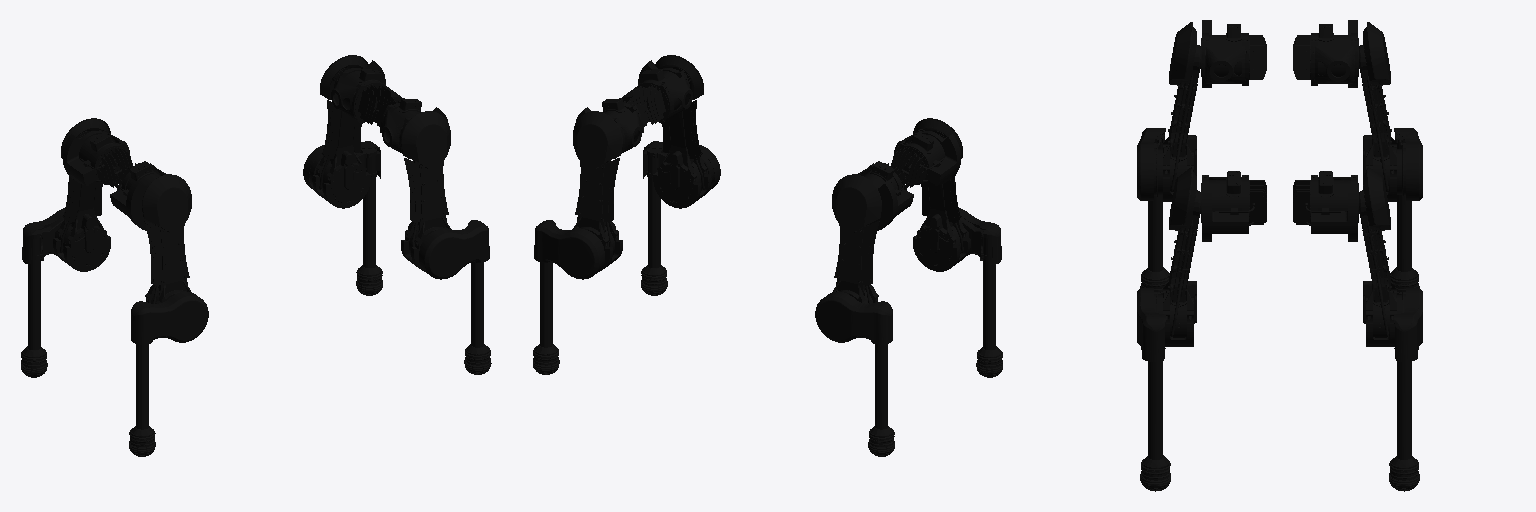
The robot description file, URDF, robot "anymal":
<?xml version="1.0" encoding="utf-8" ?>
<!-- =================================================================================== -->
<!--   Copyright 2019 ANYbotics, https://www.anybotics.com                               -->
<!-- =================================================================================== -->
<!-- This file contains the description of the ANYmal B robot. -->
<!-- <?xml version="1.0" ?> -->
<robot name="anymal">

    <!--
      Material colors
    -->

    <!-- Basic colors -->
    <material name="black">
        <color rgba="0.0 0.0 0.0 1.0"/>
    </material>
    <material name="blue">
        <color rgba="0.0 0.0 0.8 1.0"/>
    </material>
    <material name="green">
        <color rgba="0.0 0.8 0.0 1.0"/>
    </material>
    <material name="grey">
        <color rgba="0.2 0.2 0.2 1.0"/>
    </material>
    <material name="light_grey">
        <color rgba="0.4 0.4 0.4 1.0"/>
    </material>
    <material name="red">
        <color rgba="0.8 0.0 0.0 1.0"/>
    </material>
    <material name="white">
        <color rgba="1.0 1.0 1.0 1.0"/>
    </material>

    <!-- Material for the visual primitives -->
    <material name="anymal_material">
        <!-- <color rgba="0.7 0.7 0.7 1.0"/> -->
        <color rgba="0.1 0.1 0.1 1.0"/>
    </material>

    <!--
      Base
    -->

    <!-- KDL cannot have inertia on the base link so you might add a dummy inertia link -->
    <!-- Base link -->
    <link name="base">
        <inertial>
            <origin rpy="0 0 0" xyz="-0.001960558279 -0.001413217745 0.050207125344"/>
            <mass value="16.793507758"/>
            <inertia ixx="0.217391101503" ixy="-0.00132873239126" ixz="-0.00228200226173" iyy="0.639432546734" iyz="-0.00138078263145" izz="0.62414077654"/>
        </inertial>
        <visual>
            <origin rpy="0 0 0" xyz="0 0 0"/>
            <geometry>
                <mesh filename="meshes/anymal_base.obj" scale="0.001 0.001 0.001"/>
            </geometry>
            <material name="anymal_material"/>
        </visual>
        <!-- Main Body -->
        <collision>
            <origin rpy="0 0 0" xyz="0 0 0.08"/>
            <geometry>
                <box size="0.531 0.27 0.24"/>
            </geometry>
        </collision>
    </link>

    <!--
      Left-Fore leg
    -->

    <!-- high link -->
    <link name="LF_HIP">
        <visual>
            <origin rpy="0 0 0.0" xyz="0 0 0"/>
            <geometry>
                <mesh filename="meshes/anymal_hip_l.obj" scale="0.001 0.001 0.001"/>
            </geometry>
            <material name="anymal_material"/>
        </visual>
        <inertial>
            <origin rpy="0 0 0" xyz="0.064516258147 -0.003787101702 -0.000152184388"/>
            <mass value="1.42462064"/>
            <inertia ixx="0.00243023349564" ixy="-1.53023971e-05" ixz="-2.1819095354e-05" iyy="0.00230257239103" iyz="2.6473021273e-05" izz="0.0019806759227"/>
        </inertial>
    </link>
    <!-- Hip joint -->
    <joint name="LF_HAA" type="revolute">
        <parent link="base"/>
        <child link="LF_HIP"/>
        <origin xyz="0.277 0.116 0.0"/>
        <axis xyz="1 0 0"/>
        <limit effort="80" lower="-6.28" upper="6.28" velocity="15"/>
        <dynamics damping="0.0" friction="0.0"/>
    </joint>

    <!-- Thigh link -->
    <link name="LF_THIGH">
        <visual>
            <origin rpy="0 0 0.0" xyz="0 0 0"/>
            <geometry>
                <mesh filename="meshes/anymal_thigh_l.obj" scale="0.001 0.001 0.001"/>
            </geometry>
            <material name="anymal_material"/>
        </visual>
        <collision>
            <!-- KFE actuator -->
            <origin rpy="1.57079632679 0 0" xyz="0.0 0.07205 -0.25"/>
            <geometry>
                <cylinder length="0.11" radius="0.06"/>
            </geometry>
        </collision>
        <inertial>
            <origin rpy="0 0 0" xyz="-0.003897968082 0.054226618537 -0.214583373795"/>
            <mass value="1.634976467"/>
            <inertia ixx="0.0120367944369" ixy="6.762065206e-05" ixz="0.000287806340448" iyy="0.0120643637939" iyz="-0.00140610131218" izz="0.00249422574881"/>
        </inertial>
    </link>
    <!-- Thigh joint -->
    <joint name="LF_HFE" type="revolute">
        <parent link="LF_HIP"/>
        <child link="LF_THIGH"/>
        <origin xyz="0.0635                    0.041                    0.0"/>
        <axis xyz="0 1 0"/>
        <limit effort="80" lower="-6.28" upper="6.28" velocity="15"/>
        <dynamics damping="0.0" friction="0.0"/>
    </joint>

    <!-- Shank link -->
    <link name="LF_SHANK">
        <visual>
            <origin rpy="0 0 0.0" xyz="0 0 0"/>
            <geometry>
                <mesh filename="meshes/anymal_shank_l.obj" scale="0.001 0.001 0.001"/>
            </geometry>
            <material name="anymal_material"/>
        </visual>
        <inertial>
            <origin rpy="0 0 0" xyz="0.030816858139 -0.004617229294 0.000893125713"/>
            <mass value="0.207204302"/>
            <inertia ixx="0.0002104880248" ixy="-5.6750980345e-05" ixz="1.0127699391e-05" iyy="0.000676270210023" iyz="-8.22869024e-07" izz="0.000545032674924"/>
        </inertial>
    </link>
    <!-- Shank joint -->
    <joint name="LF_KFE" type="revolute">
        <parent link="LF_THIGH"/>
        <child link="LF_SHANK"/>
        <origin xyz="0.0 0.109 -0.25"/>
        <axis xyz="0 1 0"/>
        <limit effort="80" lower="-6.28" upper="6.28" velocity="15"/>
        <dynamics damping="0.0" friction="0.0"/>
    </joint>
    <!-- Shank to Adapter joint -->
    <joint name="LF_SHANK_TO_ADAPTER" type="fixed">
        <parent link="LF_SHANK"/>
        <child link="LF_ADAPTER"/>
        <origin rpy="0.0 0.0 0.0" xyz="0.1 -0.02 0.0"/>
    </joint>

    <!-- Adapter link -->
    <link name="LF_ADAPTER">
        <visual>
            <origin rpy="0 0 0.0" xyz="0 0 0.032"/>
            <geometry>
                <mesh filename="meshes/anymal_foot.obj" scale="0.001 0.001 0.001"/>
            </geometry>
            <material name="anymal_material"/>
        </visual>
        <collision>
            <origin rpy="0 0 0" xyz="0 0 -0.160625"/>
            <geometry>
                <cylinder length="0.22125" radius="0.015"/>
            </geometry>
        </collision>
        <inertial>
            <origin rpy="0 0 0" xyz="-8.66e-10 -1.472e-09 -0.244345749188"/>
            <mass value="0.140170767"/>
            <inertia ixx="0.00159938741862" ixy="-9.32e-13" ixz="1.039e-11" iyy="0.00159938741932" iyz="1.7563e-11" izz="5.4423177329e-05"/>
        </inertial>
    </link>
    <!-- Adapter to Foot joint -->
    <joint name="LF_ADAPTER_TO_FOOT" type="fixed">
        <parent link="LF_ADAPTER"/>
        <child link="LF_FOOT"/>
        <origin rpy="0.0 0.0 0.0" xyz="0.0 0.0 -0.32125"/>
    </joint>

    <!-- Foot link -->
    <link name="LF_FOOT">
        <inertial>
            <mass value="0.001"/>
            <inertia ixx="4.90e-07" ixy="0.0" ixz="0.0" iyy="4.90e-07" iyz="0.0" izz="4.90e-07"/>  <!-- for a sphere: 2/5 m * r**2 -->
        </inertial>
        <collision>
            <origin xyz="0 0 0.02325"/>
            <geometry>
                <sphere radius="0.035"/>
            </geometry>
        </collision>
    </link>

    <!--
      Right-Fore leg
    -->

    <!-- Hip link -->
    <link name="RF_HIP">
        <visual>
            <origin rpy="0 0 0.0" xyz="0 0 0"/>
            <geometry>
                <mesh filename="meshes/anymal_hip_r.obj" scale="0.001 0.001 0.001"/>
            </geometry>
            <material name="anymal_material"/>
        </visual>
        <inertial>
            <origin rpy="0 0 0" xyz="0.064516258147 0.003787101702 -0.000152184388"/>
            <mass value="1.42462064"/>
            <inertia ixx="0.00243023349564" ixy="1.53023971e-05" ixz="-2.1819095354e-05" iyy="0.00230257239103" iyz="-2.6473021273e-05" izz="0.0019806759227"/>
        </inertial>
    </link>
    <!-- Hip joint -->
    <joint name="RF_HAA" type="revolute">
        <parent link="base"/>
        <child link="RF_HIP"/>
        <origin xyz="0.277 -0.116 0.0"/>
        <axis xyz="1 0 0"/>
        <limit effort="80" lower="-6.28" upper="6.28" velocity="15"/>
        <dynamics damping="0.0" friction="0.0"/>
    </joint>

    <!-- Thigh link -->
    <link name="RF_THIGH">
        <visual>
            <origin rpy="0 0 0.0" xyz="0 0 0"/>
            <geometry>
                <mesh filename="meshes/anymal_thigh_r.obj" scale="0.001 0.001 0.001"/>
            </geometry>
            <material name="anymal_material"/>
        </visual>
        <collision>
            <!-- KFE actuator -->
            <origin rpy="1.57079632679 0 0" xyz="0.0 -0.07205 -0.25"/>
            <geometry>
                <cylinder length="0.11" radius="0.06"/>
            </geometry>
        </collision>
        <inertial>
            <origin rpy="0 0 0" xyz="-0.003897968082 -0.054226618537 -0.214583373795"/>
            <mass value="1.634976467"/>
            <inertia ixx="0.0120367944369" ixy="-6.762065206e-05" ixz="0.000287806340448" iyy="0.0120643637939" iyz="0.00140610131218" izz="0.00249422574881"/>
        </inertial>
    </link>
    <!-- Thigh joint -->
    <joint name="RF_HFE" type="revolute">
        <parent link="RF_HIP"/>
        <child link="RF_THIGH"/>
        <origin xyz="0.0635                    -0.041                    0.0"/>
        <axis xyz="0 1 0"/>
        <limit effort="80" lower="-6.28" upper="6.28" velocity="15"/>
        <dynamics damping="0.0" friction="0.0"/>
    </joint>

    <!-- Shank link -->
    <link name="RF_SHANK">
        <visual>
            <origin rpy="0 0 0.0" xyz="0 0 0"/>
            <geometry>
                <mesh filename="meshes/anymal_shank_r.obj" scale="0.001 0.001 0.001"/>
            </geometry>
            <material name="anymal_material"/>
        </visual>
        <inertial>
            <origin rpy="0 0 0" xyz="0.030816858139 0.004617229294 0.000893125713"/>
            <mass value="0.207204302"/>
            <inertia ixx="0.0002104880248" ixy="5.6750980345e-05" ixz="1.0127699391e-05" iyy="0.000676270210023" iyz="8.22869024e-07" izz="0.000545032674924"/>
        </inertial>
    </link>
    <!-- Shank joint -->
    <joint name="RF_KFE" type="revolute">
        <parent link="RF_THIGH"/>
        <child link="RF_SHANK"/>
        <origin xyz="0.0 -0.109 -0.25"/>
        <axis xyz="0 1 0"/>
        <limit effort="80" lower="-6.28" upper="6.28" velocity="15"/>
        <dynamics damping="0.0" friction="0.0"/>
    </joint>
    <!-- Shank to Adapter joint -->
    <joint name="RF_SHANK_TO_ADAPTER" type="fixed">
        <parent link="RF_SHANK"/>
        <child link="RF_ADAPTER"/>
        <origin rpy="-0.0 0.0 -0.0" xyz="0.1 0.02 0.0"/>
    </joint>

    <!-- Adapter link -->
    <link name="RF_ADAPTER">
        <visual>
            <origin rpy="0 0 0.0" xyz="0 0 0.032"/>
            <geometry>
                <mesh filename="meshes/anymal_foot.obj" scale="0.001 0.001 0.001"/>
            </geometry>
            <material name="anymal_material"/>
        </visual>
        <collision>
            <origin rpy="0 0 0" xyz="0 0 -0.160625"/>
            <geometry>
                <cylinder length="0.22125" radius="0.015"/>
            </geometry>
        </collision>
        <inertial>
            <origin rpy="0 0 0" xyz="-8.66e-10 -1.472e-09 -0.244345749188"/>
            <mass value="0.140170767"/>
            <inertia ixx="0.00159938741862" ixy="-9.32e-13" ixz="1.039e-11" iyy="0.00159938741932" iyz="1.7563e-11" izz="5.4423177329e-05"/>
        </inertial>
    </link>
    <!-- Adapter to Foot joint -->
    <joint name="RF_ADAPTER_TO_FOOT" type="fixed">
        <parent link="RF_ADAPTER"/>
        <child link="RF_FOOT"/>
        <origin rpy="-0.0 0.0 -0.0" xyz="0.0 -0.0 -0.32125"/>
    </joint>

    <!-- Foot link -->
    <link name="RF_FOOT">
        <inertial>
            <mass value="0.001"/>
            <inertia ixx="4.90e-07" ixy="0.0" ixz="0.0" iyy="4.90e-07" iyz="0.0" izz="4.90e-07"/>  <!-- for a sphere: 2/5 m * r**2 -->
        </inertial>
        <collision>
            <origin xyz="0 0 0.02325"/>
            <geometry>
                <sphere radius="0.035"/>
            </geometry>
        </collision>
    </link>


    <!--
      Left-Hind leg
    -->

    <!-- Hip link -->
    <link name="LH_HIP">
        <visual>
            <origin rpy="0 0 -3.14159265359" xyz="0 0 0"/>
            <geometry>
                <mesh filename="meshes/anymal_hip_r.obj" scale="0.001 0.001 0.001"/>
            </geometry>
            <material name="anymal_material"/>
        </visual>
        <inertial>
            <origin rpy="0 0 0" xyz="-0.064516258147 -0.003787101702 -0.000152184388"/>
            <mass value="1.42462064"/>
            <inertia ixx="0.00243023349564" ixy="1.53023971e-05" ixz="2.1819095354e-05" iyy="0.00230257239103" iyz="2.6473021273e-05" izz="0.0019806759227"/>
        </inertial>
    </link>
    <!-- Hip joint -->
    <joint name="LH_HAA" type="revolute">
        <parent link="base"/>
        <child link="LH_HIP"/>
        <origin xyz="-0.277 0.116 0.0"/>
        <axis xyz="1 0 0"/>
        <limit effort="80" lower="-6.28" upper="6.28" velocity="15"/>
        <dynamics damping="0.0" friction="0.0"/>
    </joint>

    <!-- Thigh link -->
    <link name="LH_THIGH">
        <visual>
            <origin rpy="0 0 -3.14159265359" xyz="0 0 0"/>
            <geometry>
                <mesh filename="meshes/anymal_thigh_r.obj" scale="0.001 0.001 0.001"/>
            </geometry>
            <material name="anymal_material"/>
        </visual>
        <collision>
            <!-- KFE actuator -->
            <origin rpy="1.57079632679 0 0" xyz="0.0 0.07205 -0.25"/>
            <geometry>
                <cylinder length="0.11" radius="0.06"/>
            </geometry>
        </collision>
        <inertial>
            <origin rpy="0 0 0" xyz="0.003897968082 0.054226618537 -0.214583373795"/>
            <mass value="1.634976467"/>
            <inertia ixx="0.0120367944369" ixy="-6.762065206e-05" ixz="-0.000287806340448" iyy="0.0120643637939" iyz="-0.00140610131218" izz="0.00249422574881"/>
        </inertial>
    </link>
    <!-- Thigh joint -->
    <joint name="LH_HFE" type="revolute">
        <parent link="LH_HIP"/>
        <child link="LH_THIGH"/>
        <origin xyz="-0.0635                    0.041                    0.0"/>
        <axis xyz="0 1 0"/>
        <limit effort="80" lower="-6.28" upper="6.28" velocity="15"/>
        <dynamics damping="0.0" friction="0.0"/>
    </joint>

    <!-- Shank link -->
    <link name="LH_SHANK">
        <visual>
            <origin rpy="0 0 -3.14159265359" xyz="0 0 0"/>
            <geometry>
                <mesh filename="meshes/anymal_shank_r.obj" scale="0.001 0.001 0.001"/>
            </geometry>
            <material name="anymal_material"/>
        </visual>
        <inertial>
            <origin rpy="0 0 0" xyz="-0.030816858139 -0.004617229294 0.000893125713"/>
            <mass value="0.207204302"/>
            <inertia ixx="0.0002104880248" ixy="5.6750980345e-05" ixz="-1.0127699391e-05" iyy="0.000676270210023" iyz="-8.22869024e-07" izz="0.000545032674924"/>
        </inertial>
    </link>
    <!-- Shank joint -->
    <joint name="LH_KFE" type="revolute">
        <parent link="LH_THIGH"/>
        <child link="LH_SHANK"/>
        <origin xyz="-0.0 0.109 -0.25"/>
        <axis xyz="0 1 0"/>
        <limit effort="80" lower="-6.28" upper="6.28" velocity="15"/>
        <dynamics damping="0.0" friction="0.0"/>
    </joint>
    <!-- Shank to Adapter joint -->
    <joint name="LH_SHANK_TO_ADAPTER" type="fixed">
        <parent link="LH_SHANK"/>
        <child link="LH_ADAPTER"/>
        <origin rpy="0.0 -0.0 -0.0" xyz="-0.1 -0.02 0.0"/>
    </joint>

    <!-- Adapter link -->
    <link name="LH_ADAPTER">
        <visual>
            <origin rpy="0 0 -3.14159265359" xyz="0 0 0.032"/>
            <geometry>
                <mesh filename="meshes/anymal_foot.obj" scale="0.001 0.001 0.001"/>
            </geometry>
            <material name="anymal_material"/>
        </visual>
        <collision>
            <origin rpy="0 0 0" xyz="0 0 -0.160625"/>
            <geometry>
                <cylinder length="0.22125" radius="0.015"/>
            </geometry>
        </collision>
        <inertial>
            <origin rpy="0 0 0" xyz="-8.66e-10 -1.472e-09 -0.244345749188"/>
            <mass value="0.140170767"/>
            <inertia ixx="0.00159938741862" ixy="-9.32e-13" ixz="1.039e-11" iyy="0.00159938741932" iyz="1.7563e-11" izz="5.4423177329e-05"/>
        </inertial>
    </link>
    <!-- Adapter to Foot joint -->
    <joint name="LH_ADAPTER_TO_FOOT" type="fixed">
        <parent link="LH_ADAPTER"/>
        <child link="LH_FOOT"/>
        <origin rpy="0.0 -0.0 -0.0" xyz="-0.0 0.0 -0.32125"/>
    </joint>

    <!-- Foot link -->
    <link name="LH_FOOT">
        <inertial>
            <mass value="0.001"/>
            <inertia ixx="4.90e-07" ixy="0.0" ixz="0.0" iyy="4.90e-07" iyz="0.0" izz="4.90e-07"/>  <!-- for a sphere: 2/5 m * r**2 -->
        </inertial>
        <collision>
            <origin xyz="0 0 0.02325"/>
            <geometry>
                <sphere radius="0.035"/>
            </geometry>
        </collision>
    </link>

    <!--
      Right-Hind leg
    -->

    <!-- Hip link -->
    <link name="RH_HIP">
        <visual>
            <origin rpy="0 0 -3.14159265359" xyz="0 0 0"/>
            <geometry>
                <mesh filename="meshes/anymal_hip_l.obj" scale="0.001 0.001 0.001"/>
            </geometry>
            <material name="anymal_material"/>
        </visual>
        <inertial>
            <origin rpy="0 0 0" xyz="-0.064516258147 0.003787101702 -0.000152184388"/>
            <mass value="1.42462064"/>
            <inertia ixx="0.00243023349564" ixy="-1.53023971e-05" ixz="2.1819095354e-05" iyy="0.00230257239103" iyz="-2.6473021273e-05" izz="0.0019806759227"/>
        </inertial>
    </link>
    <!-- Hip joint -->
    <joint name="RH_HAA" type="revolute">
        <parent link="base"/>
        <child link="RH_HIP"/>
        <origin xyz="-0.277 -0.116 0.0"/>
        <axis xyz="1 0 0"/>
        <limit effort="80" lower="-6.28" upper="6.28" velocity="15"/>
        <dynamics damping="0.0" friction="0.0"/>
    </joint>

    <!-- Thigh link -->
    <link name="RH_THIGH">
        <visual>
            <origin rpy="0 0 -3.14159265359" xyz="0 0 0"/>
            <geometry>
                <mesh filename="meshes/anymal_thigh_l.obj" scale="0.001 0.001 0.001"/>
            </geometry>
            <material name="anymal_material"/>
        </visual>
        <collision>
            <!-- KFE actuator -->
            <origin rpy="1.57079632679 0 0" xyz="0.0 -0.07205 -0.25"/>
            <geometry>
                <cylinder length="0.11" radius="0.06"/>
            </geometry>
        </collision>
        <inertial>
            <origin rpy="0 0 0" xyz="0.003897968082 -0.054226618537 -0.214583373795"/>
            <mass value="1.634976467"/>
            <inertia ixx="0.0120367944369" ixy="6.762065206e-05" ixz="-0.000287806340448" iyy="0.0120643637939" iyz="0.00140610131218" izz="0.00249422574881"/>
        </inertial>
    </link>
    <!-- Thigh joint -->
    <joint name="RH_HFE" type="revolute">
        <parent link="RH_HIP"/>
        <child link="RH_THIGH"/>
        <origin xyz="-0.0635                    -0.041                    0.0"/>
        <axis xyz="0 1 0"/>
        <limit effort="80" lower="-6.28" upper="6.28" velocity="15"/>
        <dynamics damping="0.0" friction="0.0"/>
    </joint>

    <!-- Shank link -->
    <link name="RH_SHANK">
        <visual>
            <origin rpy="0 0 -3.14159265359" xyz="0 0 0"/>
            <geometry>
                <mesh filename="meshes/anymal_shank_l.obj" scale="0.001 0.001 0.001"/>
            </geometry>
            <material name="anymal_material"/>
        </visual>
        <inertial>
            <origin rpy="0 0 0" xyz="-0.030816858139 0.004617229294 0.000893125713"/>
            <mass value="0.207204302"/>
            <inertia ixx="0.0002104880248" ixy="-5.6750980345e-05" ixz="-1.0127699391e-05" iyy="0.000676270210023" iyz="8.22869024e-07" izz="0.000545032674924"/>
        </inertial>
    </link>
    <!-- Shank joint -->
    <joint name="RH_KFE" type="revolute">
        <parent link="RH_THIGH"/>
        <child link="RH_SHANK"/>
        <origin xyz="-0.0 -0.109 -0.25"/>
        <axis xyz="0 1 0"/>
        <limit effort="80" lower="-6.28" upper="6.28" velocity="15"/>
        <dynamics damping="0.0" friction="0.0"/>
    </joint>
    <!-- Shank to Adapter joint -->
    <joint name="RH_SHANK_TO_ADAPTER" type="fixed">
        <parent link="RH_SHANK"/>
        <child link="RH_ADAPTER"/>
        <origin rpy="-0.0 -0.0 0.0" xyz="-0.1 0.02 0.0"/>
    </joint>

    <!-- Adapter link -->
    <link name="RH_ADAPTER">
        <visual>
            <origin rpy="0 0 -3.14159265359" xyz="0 0 0.032"/>
            <geometry>
                <mesh filename="meshes/anymal_foot.obj" scale="0.001 0.001 0.001"/>
            </geometry>
            <material name="anymal_material"/>
        </visual>
        <collision>
            <origin rpy="0 0 0" xyz="0 0 -0.160625"/>
            <geometry>
                <cylinder length="0.22125" radius="0.015"/>
            </geometry>
        </collision>
        <inertial>
            <origin rpy="0 0 0" xyz="-8.66e-10 -1.472e-09 -0.244345749188"/>
            <mass value="0.140170767"/>
            <inertia ixx="0.00159938741862" ixy="-9.32e-13" ixz="1.039e-11" iyy="0.00159938741932" iyz="1.7563e-11" izz="5.4423177329e-05"/>
        </inertial>
    </link>
    <!-- Adapter to Foot joint -->
    <joint name="RH_ADAPTER_TO_FOOT" type="fixed">
        <parent link="RH_ADAPTER"/>
        <child link="RH_FOOT"/>
        <origin rpy="-0.0 -0.0 0.0" xyz="-0.0 -0.0 -0.32125"/>
    </joint>

    <!-- Foot link -->
    <link name="RH_FOOT">
        <inertial>
            <mass value="0.001"/>
            <inertia ixx="4.90e-07" ixy="0.0" ixz="0.0" iyy="4.90e-07" iyz="0.0" izz="4.90e-07"/>  <!-- for a sphere: 2/5 m * r**2 -->
        </inertial>
        <collision>
            <origin xyz="0 0 0.02325"/>
            <geometry>
                <sphere radius="0.035"/>
            </geometry>
        </collision>
    </link>
</robot>

--- What the picture shows (computed from the rendered views, not written in the file) ---
3 views of the same robot in one strip: view 1: azimuth 30°, elevation 25°; view 2: azimuth 150°, elevation 25°; view 3: azimuth 270°, elevation 25° (orthographic).
Model anymal with 21 links and 20 joints (12 revolute, 8 fixed), rooted at base, posed every joint at zero.
Links seen in each view (by area): view 1: RF_THIGH, RH_THIGH, LF_THIGH, LH_THIGH, RH_SHANK, LH_HIP, RF_SHANK, LF_HIP, LH_ADAPTER, LF_ADAPTER, RF_ADAPTER, RH_HIP (+4 smaller); view 2: LF_THIGH, LH_THIGH, RF_THIGH, RH_THIGH, LH_SHANK, RH_HIP, LF_SHANK, RF_HIP, RH_ADAPTER, RF_ADAPTER, LF_ADAPTER, LH_HIP (+4 smaller); view 3: LF_THIGH, RF_THIGH, LH_THIGH, RH_THIGH, LF_HIP, RF_HIP, LH_HIP, RH_HIP, RF_ADAPTER, LF_ADAPTER, LF_SHANK, RF_SHANK (+4 smaller).
Link boxes in pixels (<box>): RF_THIGH: <box>401,111,450,271</box>; RH_THIGH: <box>142,174,191,303</box>; LF_THIGH: <box>312,55,370,208</box>; LH_THIGH: <box>53,118,110,271</box>; RH_SHANK: <box>131,292,208,344</box>; LH_HIP: <box>63,129,132,187</box>; RF_SHANK: <box>419,220,489,279</box>; LF_HIP: <box>331,60,401,124</box>; LH_ADAPTER: <box>21,230,47,377</box>; LF_ADAPTER: <box>356,148,382,295</box>; RF_ADAPTER: <box>464,262,491,374</box>; RH_HIP: <box>110,161,167,230</box>; LF_THIGH: <box>573,111,622,271</box>; LH_THIGH: <box>832,174,881,303</box>; RF_THIGH: <box>653,55,711,208</box>; RH_THIGH: <box>913,118,970,271</box>; LH_SHANK: <box>815,292,892,344</box>; RH_HIP: <box>891,129,960,187</box>; LF_SHANK: <box>534,220,604,279</box>; RF_HIP: <box>622,60,692,124</box>; RH_ADAPTER: <box>976,230,1002,377</box>; RF_ADAPTER: <box>641,148,667,295</box>; LF_ADAPTER: <box>533,262,559,374</box>; LH_HIP: <box>856,161,913,230</box>; LF_THIGH: <box>1359,167,1401,346</box>; RF_THIGH: <box>1158,167,1200,346</box>; LH_THIGH: <box>1359,22,1401,201</box>; RH_THIGH: <box>1158,22,1200,201</box>; LF_HIP: <box>1293,171,1358,241</box>; RF_HIP: <box>1201,171,1266,241</box>; LH_HIP: <box>1293,20,1358,87</box>; RH_HIP: <box>1201,20,1266,87</box>; RF_ADAPTER: <box>1140,361,1170,491</box>; LF_ADAPTER: <box>1389,361,1419,491</box>; LF_SHANK: <box>1394,288,1422,361</box>; RF_SHANK: <box>1137,288,1165,361</box>.
Bounding box of the posed robot: 0.9429 × 0.568 × 0.6502 m (x, y, z).
Meshes: 8 distinct files referenced, 16 mesh visuals loaded (7 OBJ); not drawn: 1 (reference not matched to a file when rendering).